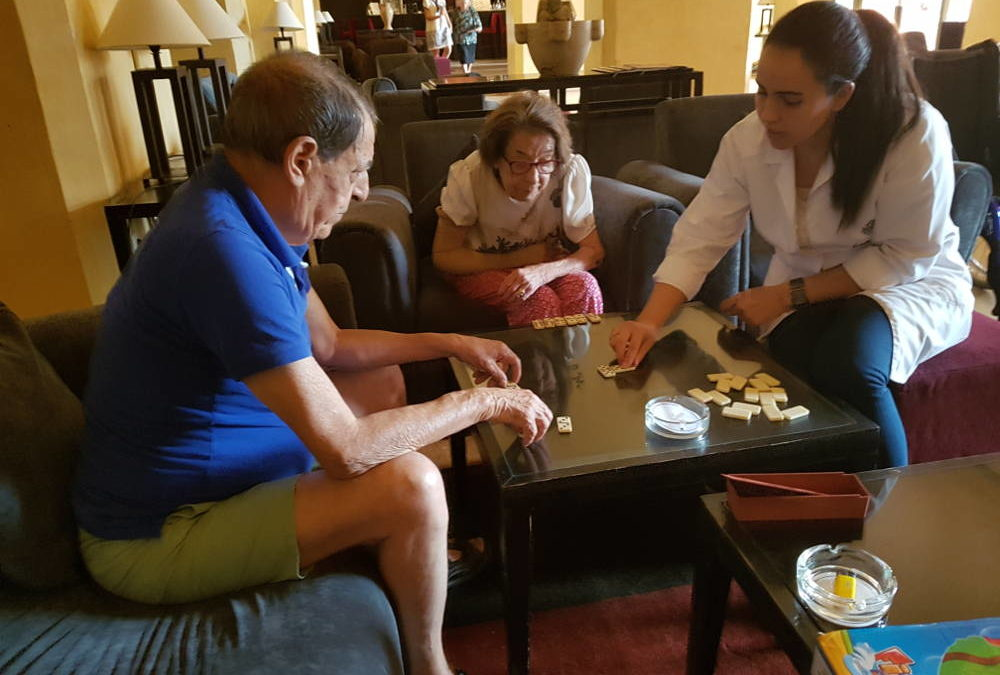without_mask: (309, 98, 369, 242), (756, 62, 827, 144), (506, 139, 555, 197)
